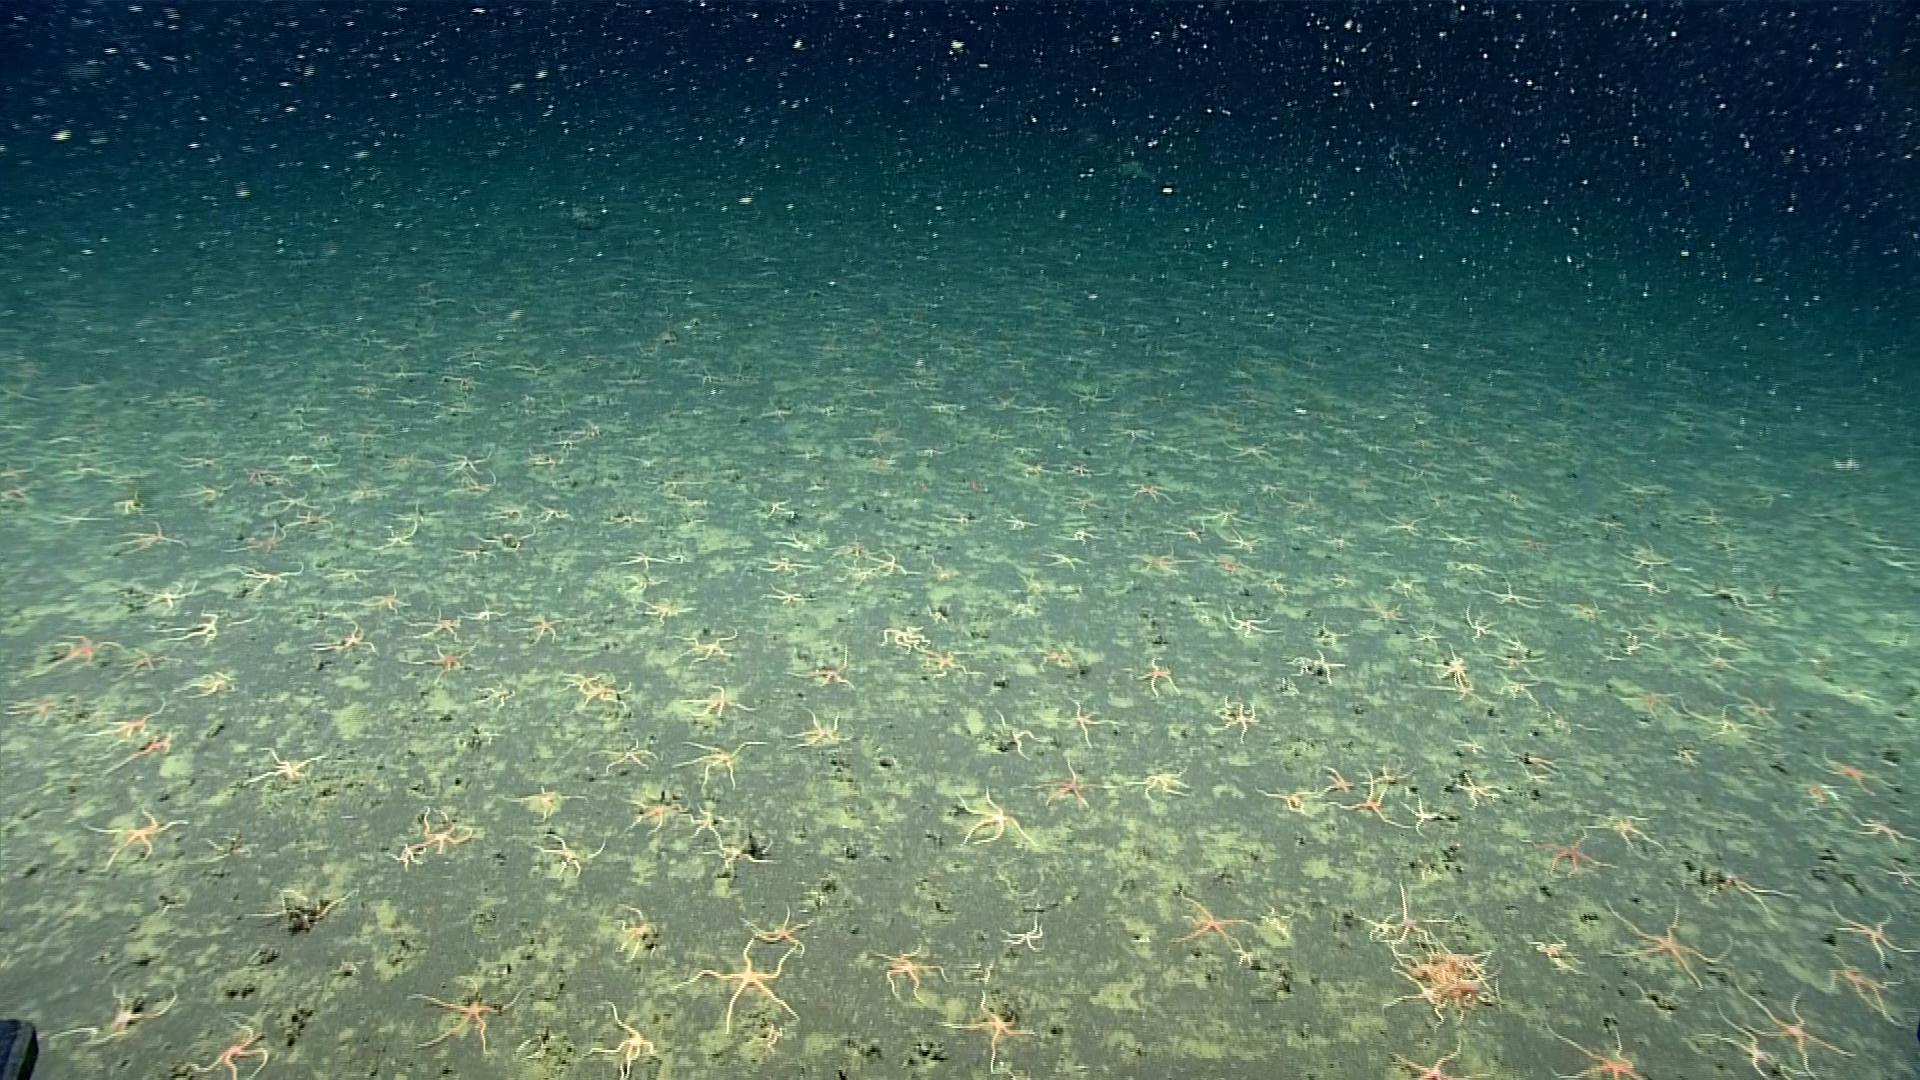brittle_sea_star: (675, 942, 816, 1036), (1609, 903, 1737, 990), (1739, 978, 1862, 1065), (411, 977, 535, 1058), (44, 978, 178, 1052), (1685, 868, 1800, 928), (79, 808, 190, 870), (1704, 1007, 1792, 1073), (1166, 889, 1255, 953), (1555, 1022, 1656, 1079), (951, 787, 1042, 849), (1025, 757, 1120, 816), (1387, 880, 1462, 952), (194, 1017, 281, 1079), (248, 886, 357, 935), (1335, 774, 1419, 836), (955, 996, 1034, 1059), (1534, 829, 1626, 882), (1833, 961, 1907, 1027), (585, 1009, 665, 1069), (678, 738, 773, 789), (876, 945, 956, 1002), (1680, 698, 1768, 749), (1837, 906, 1909, 968), (241, 741, 327, 793), (1381, 964, 1448, 1027), (38, 630, 124, 679), (1586, 808, 1667, 856), (1816, 753, 1898, 799), (742, 901, 816, 951), (414, 641, 489, 688), (542, 837, 616, 885), (1059, 705, 1126, 756), (671, 624, 744, 670), (787, 641, 853, 691), (88, 700, 170, 740), (629, 795, 699, 841), (686, 680, 760, 724), (996, 712, 1056, 765), (107, 733, 173, 781), (224, 521, 303, 560), (782, 709, 856, 750), (616, 906, 666, 963), (1393, 1042, 1474, 1076), (423, 810, 480, 857), (117, 520, 189, 556), (1215, 696, 1265, 748), (506, 783, 584, 816), (1222, 603, 1286, 642), (508, 613, 578, 649), (588, 737, 661, 771), (1130, 770, 1200, 804), (233, 563, 309, 595), (1002, 910, 1052, 957), (707, 837, 773, 873), (1535, 930, 1581, 980), (160, 611, 220, 647), (1257, 783, 1320, 818), (1457, 773, 1509, 815), (1134, 546, 1199, 579), (1851, 816, 1916, 849), (1364, 762, 1425, 796), (1697, 580, 1767, 611), (1402, 798, 1453, 839), (1357, 595, 1414, 632), (315, 625, 381, 657), (920, 650, 986, 682), (465, 526, 541, 554), (1135, 662, 1189, 700), (405, 612, 467, 645), (119, 647, 177, 682), (1294, 651, 1349, 687), (1428, 646, 1480, 684), (137, 579, 199, 611), (11, 698, 75, 728), (881, 624, 934, 661), (1487, 579, 1544, 613), (185, 670, 245, 702), (1461, 609, 1513, 646), (1622, 545, 1679, 578), (377, 516, 423, 555), (575, 682, 634, 712), (691, 803, 735, 844), (1431, 679, 1490, 708), (1315, 766, 1362, 802), (290, 505, 342, 537), (363, 589, 421, 617), (439, 451, 497, 479), (752, 555, 823, 578), (862, 549, 913, 580), (615, 550, 676, 575), (1497, 676, 1545, 708), (264, 491, 318, 518), (644, 600, 700, 626), (1125, 480, 1180, 506), (1494, 654, 1549, 680), (1203, 505, 1257, 531), (1615, 578, 1679, 600), (1300, 607, 1342, 640), (1220, 530, 1271, 556), (1357, 911, 1399, 943), (1407, 621, 1449, 653), (1033, 645, 1076, 675), (758, 583, 814, 607), (1705, 650, 1750, 678), (1168, 521, 1213, 547), (1389, 517, 1433, 543), (1526, 752, 1568, 777), (394, 845, 434, 872), (534, 504, 578, 527), (1440, 531, 1484, 555), (1875, 862, 1917, 886), (1567, 601, 1606, 626), (1452, 562, 1501, 582), (1622, 637, 1663, 659), (1043, 551, 1084, 572), (1708, 628, 1742, 653), (1391, 576, 1425, 600), (1331, 568, 1360, 595), (1667, 748, 1702, 769), (1000, 513, 1038, 531), (1064, 525, 1101, 542), (1681, 628, 1706, 650), (1505, 638, 1539, 654)
